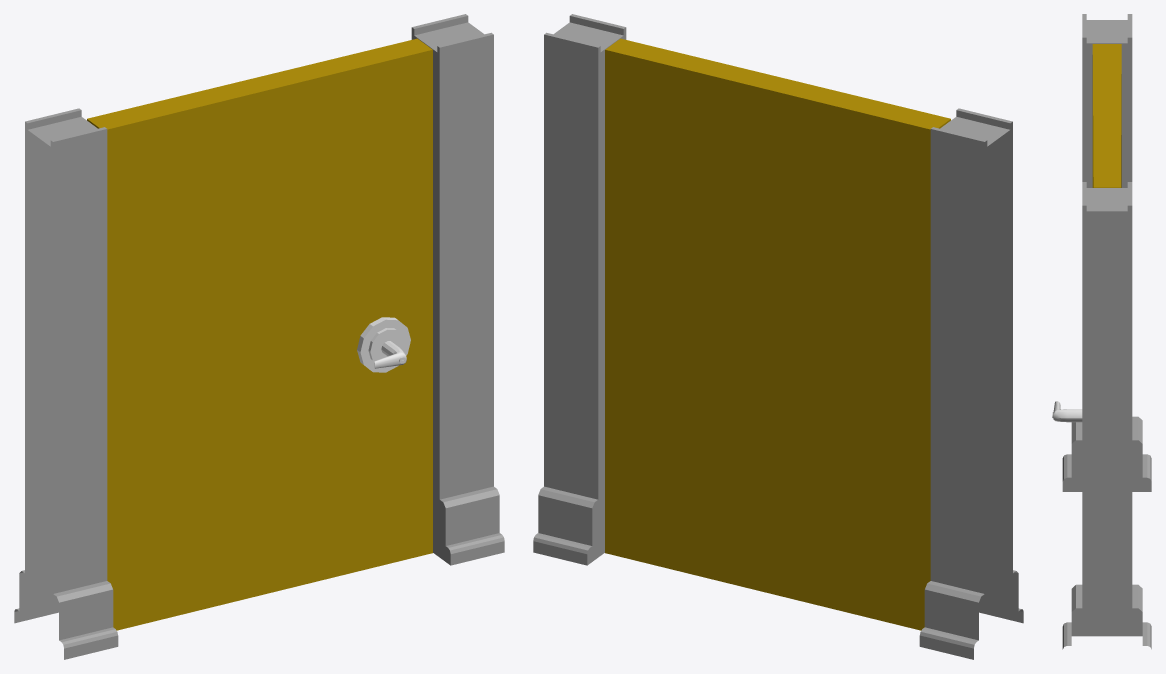
File: door.fbx
3 views of the same model, side by side, from view 1: azimuth 30°, elevation 25°; view 2: azimuth 150°, elevation 25°; view 3: azimuth 270°, elevation 25° (orthographic). The views are drawn at different scales.
Visible parts, largest first — view 1: door2, trim; view 2: door2, trim; view 3: trim, door2.
Part boxes in pixels (<box>): door2: <box>87,38,432,630</box>; trim: <box>14,14,504,659</box>; door2: <box>605,38,950,630</box>; trim: <box>533,14,1023,659</box>; trim: <box>1062,14,1151,649</box>; door2: <box>1052,44,1121,422</box>.
Size of the model in its own units: 200 by 221 by 43.81.
